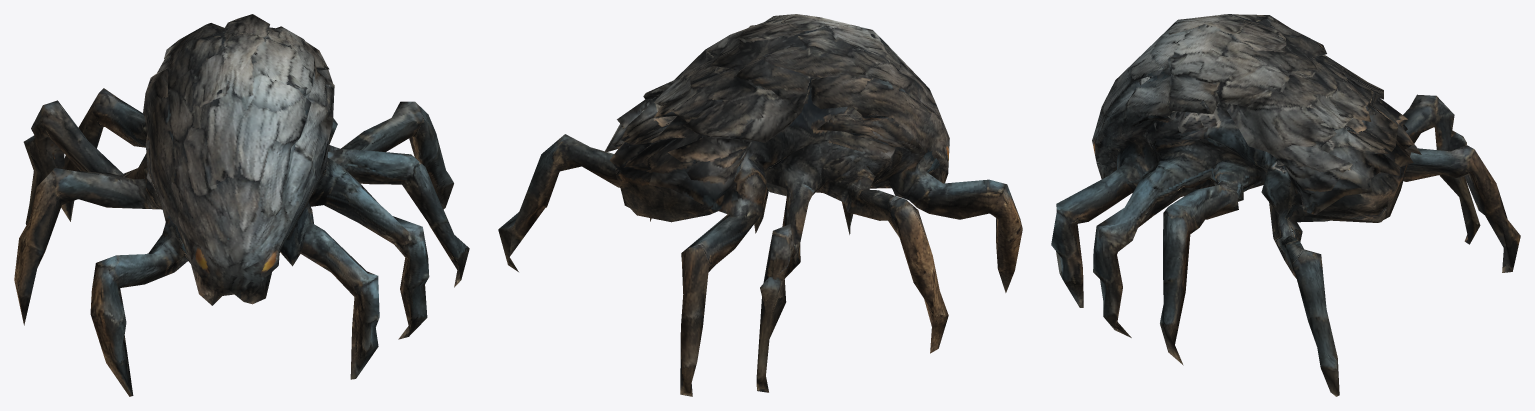
File: crawler.glb
3 renders of one model, left to right at view 1: azimuth 30°, elevation 25°; view 2: azimuth 150°, elevation 25°; view 3: azimuth 270°, elevation 25°, orthographic. The views are drawn at different scales.
Parts seen in each view (by area): view 1: low; view 2: low; view 3: low.
Boxes of the visible parts, x1,y1,x2,y2 form: low: [14, 14, 469, 396]; low: [498, 14, 1022, 396]; low: [1051, 14, 1520, 396].
Bounding box in the file's own units: 3 × 1.83 × 2.86.
Materials: 1 (1 with a texture image).
